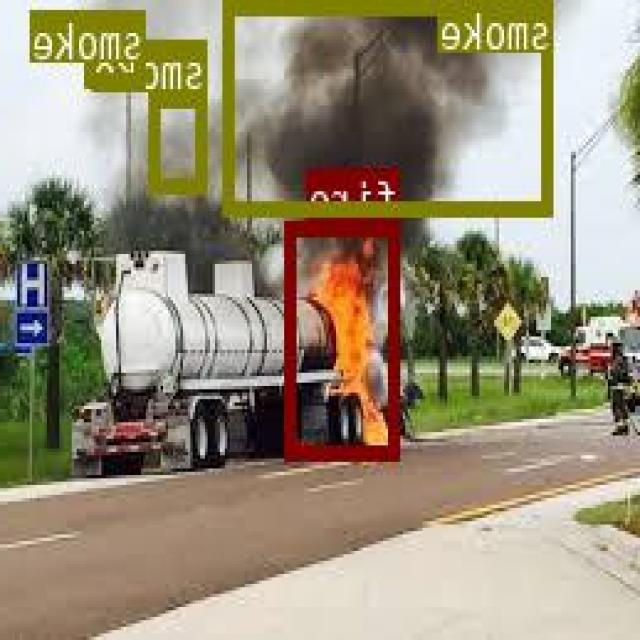fire: (288, 221, 401, 458)
smoke: (228, 0, 554, 214), (152, 91, 208, 191), (87, 7, 148, 83)
